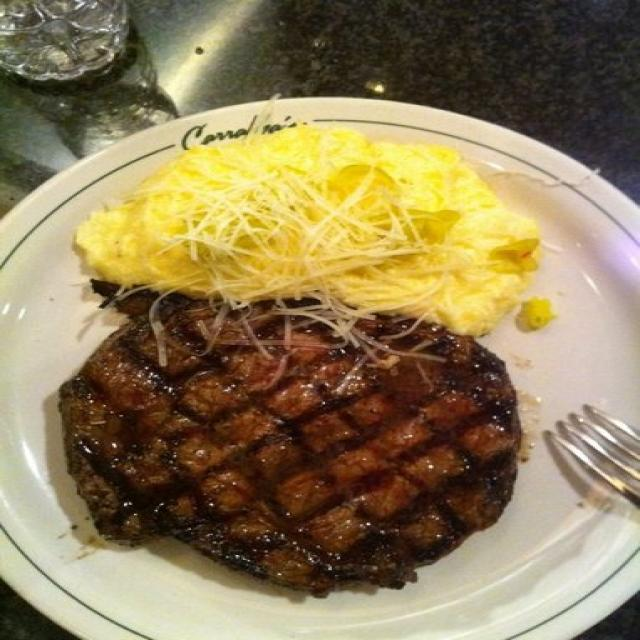Steak: (54, 306, 542, 585)
